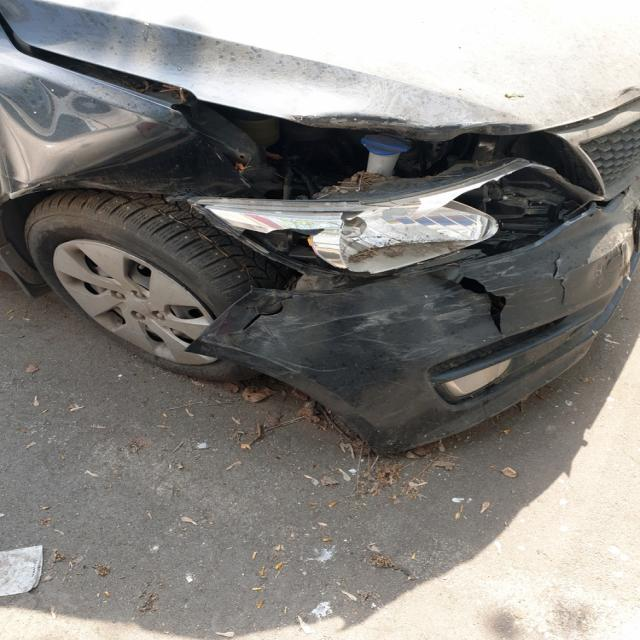crack: (227, 293, 310, 334), (459, 276, 507, 336), (553, 246, 578, 307)
dent: (0, 64, 183, 201)
lamp broken: (192, 163, 592, 282)
scratch: (232, 289, 484, 374), (473, 262, 552, 294)
